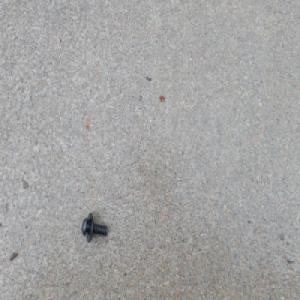BoltWasher: (80, 211, 107, 242)
